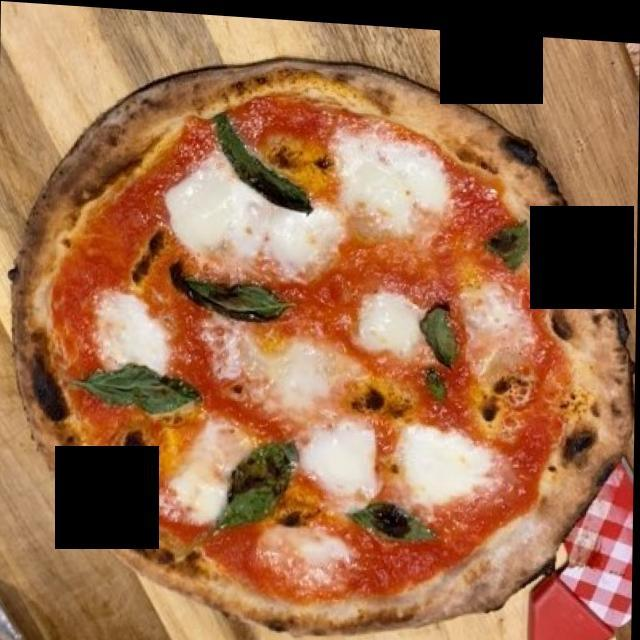pizza: (36, 75, 621, 616)
